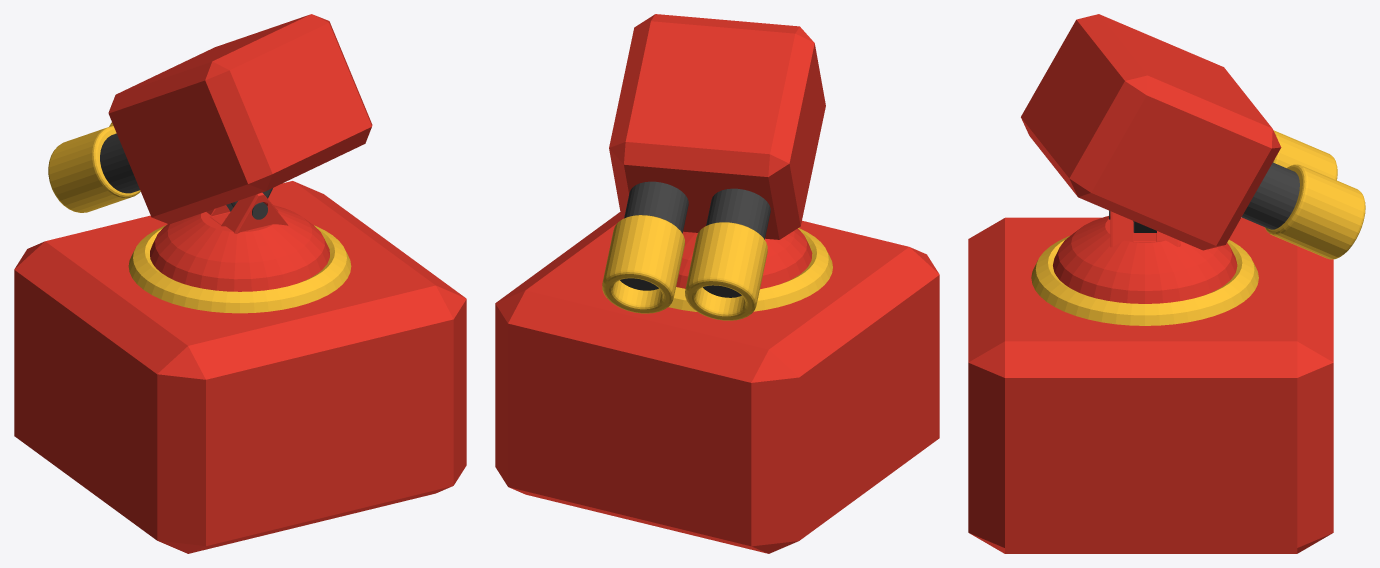
Rendered from turret_fire.fbx.
The picture shows the model from 3 angles, left to right: view 1: azimuth 30°, elevation 25°; view 2: azimuth 150°, elevation 25°; view 3: azimuth 270°, elevation 25°; orthographic projection. The views are drawn at different scales.
Visible parts, largest first — view 1: Socle, Base canon, Sphere, Torus, embout canon gauche, Pivot rouge, canon gauche; view 2: Socle, Base canon, embout canon gauche, embout canon gauche.001, Torus, Sphere, canon droit, canon gauche; view 3: Socle, Base canon, Sphere, Torus, embout canon gauche.001, canon droit, embout canon gauche, Pivot rouge.
Part boxes in pixels (x1,y1,x2,y2): Socle: (14,181,466,553); Base canon: (108,14,372,224); Sphere: (150,205,329,291); Torus: (128,225,351,313); embout canon gauche: (48,126,140,212); Pivot rouge: (206,192,288,233); canon gauche: (100,133,139,193); Socle: (495,211,939,553); Base canon: (609,14,825,239); embout canon gauche: (685,222,767,320); embout canon gauche.001: (602,215,684,313); Torus: (668,228,832,311); Sphere: (676,228,812,289); canon droit: (620,181,688,290); canon gauche: (703,188,770,297); Socle: (968,217,1333,553); Base canon: (1021,14,1281,250); Sphere: (1053,216,1237,303); Torus: (1031,236,1258,325); embout canon gauche.001: (1265,164,1365,259); canon droit: (1242,162,1299,229); embout canon gauche: (1273,130,1337,180); Pivot rouge: (1110,211,1180,247).
Size of the model in its own units: 381 by 520 by 415.
